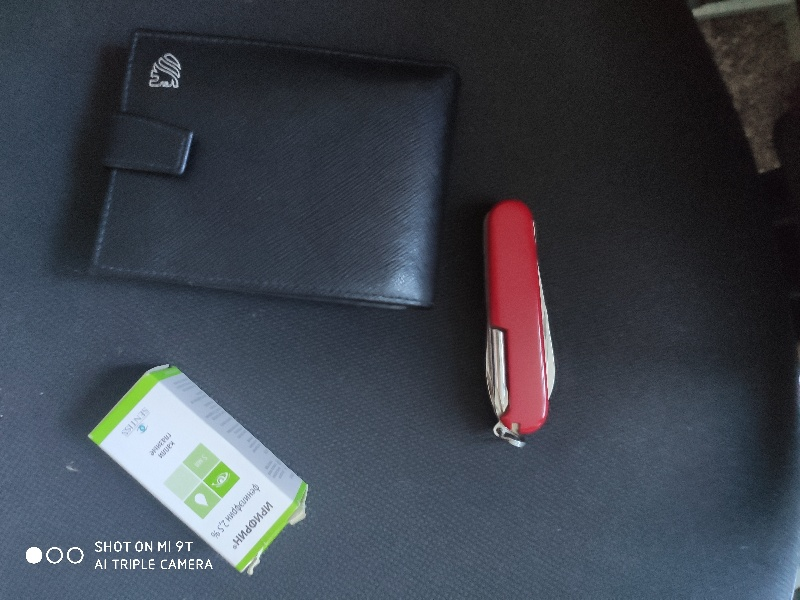ifrin: (75, 358, 315, 581)
knife: (475, 198, 565, 448)
wallet: (81, 28, 461, 318)
